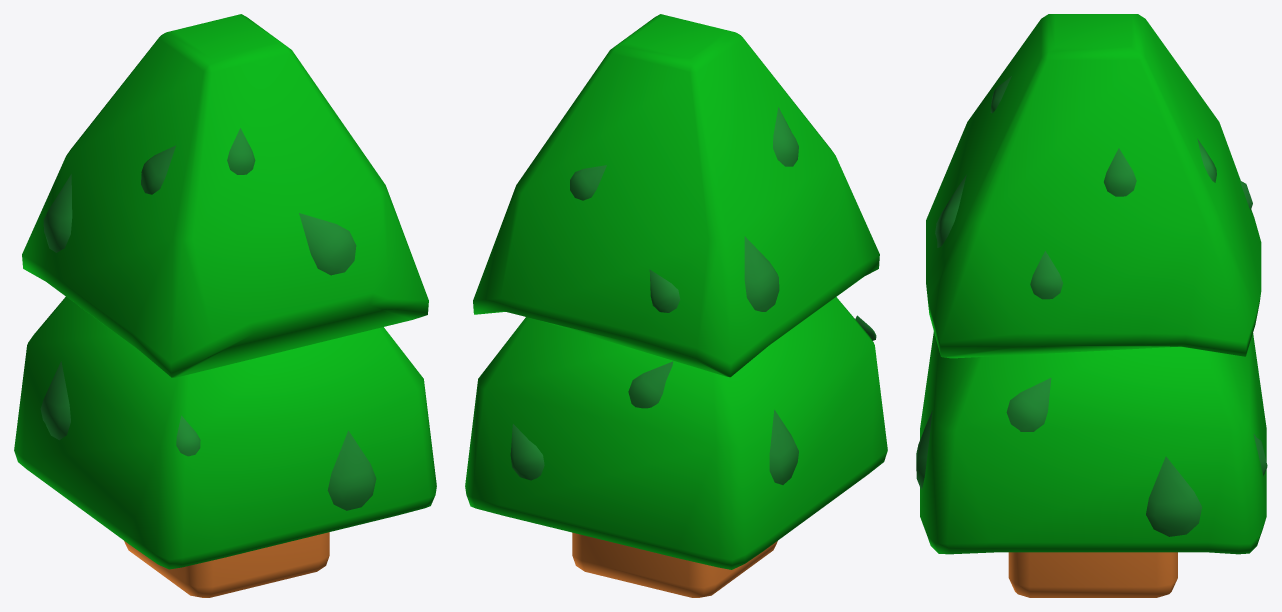
File: tree-1.fbx
3 renders of one model, left to right at view 1: azimuth 30°, elevation 25°; view 2: azimuth 150°, elevation 25°; view 3: azimuth 270°, elevation 25°, orthographic. The views are drawn at different scales.
Parts seen in each view (by area): view 1: tree-1; view 2: tree-1; view 3: tree-1.
Part boxes in pixels (left/top/right/bottom): tree-1: left=14, top=14, right=436, bottom=597; tree-1: left=465, top=14, right=887, bottom=597; tree-1: left=916, top=14, right=1267, bottom=597.
Bounding box in the file's own units: 1.8 × 3.06 × 1.8.
